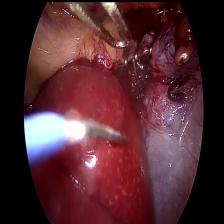Bipolar: (23, 0, 130, 166)
